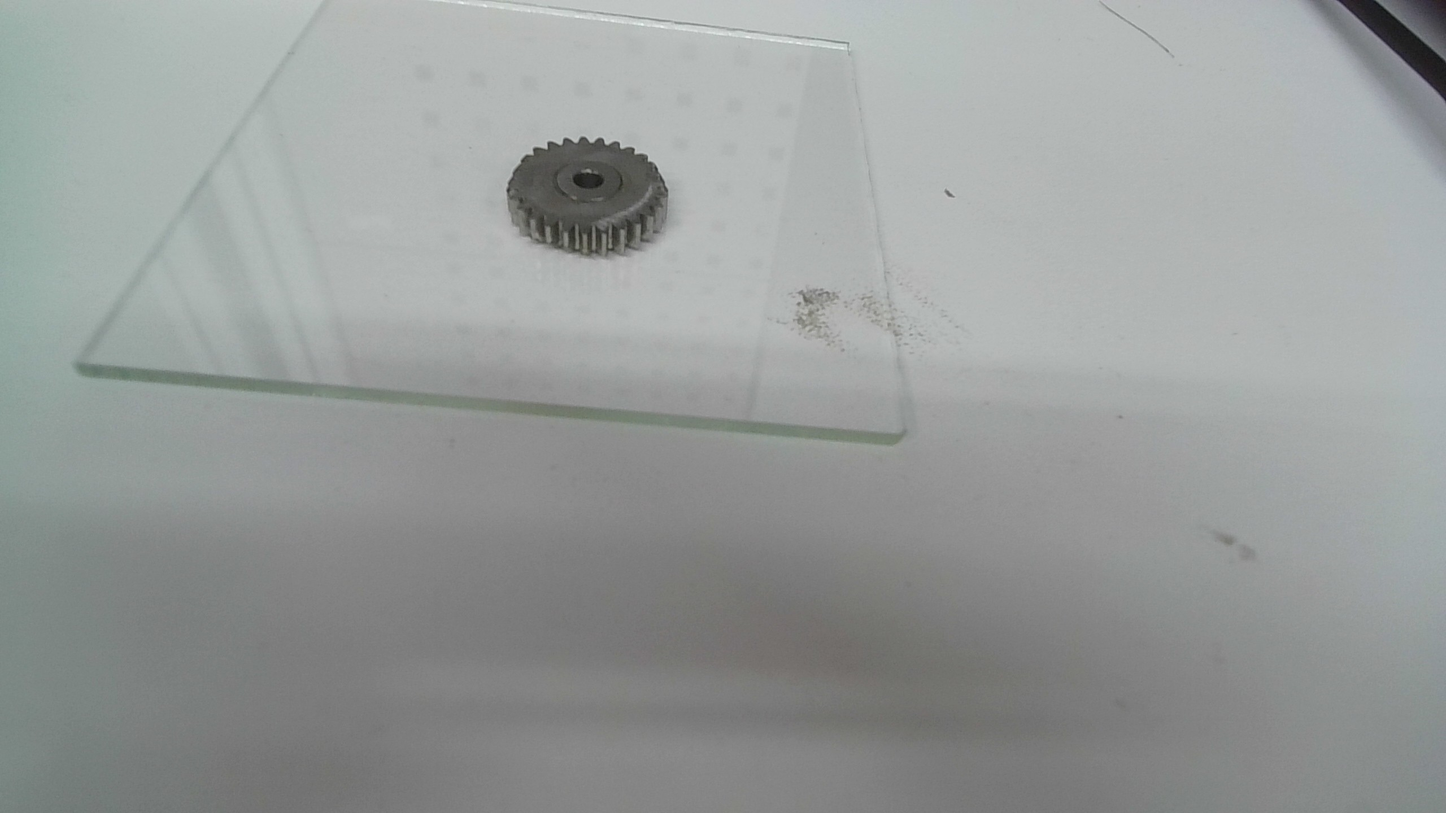gear: (505, 133, 672, 259)
